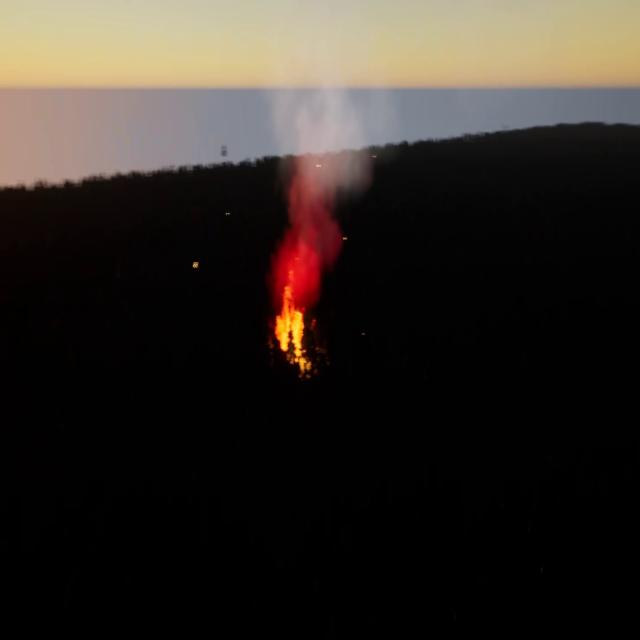fire: (272, 280, 312, 366)
smoke: (273, 89, 382, 291)
